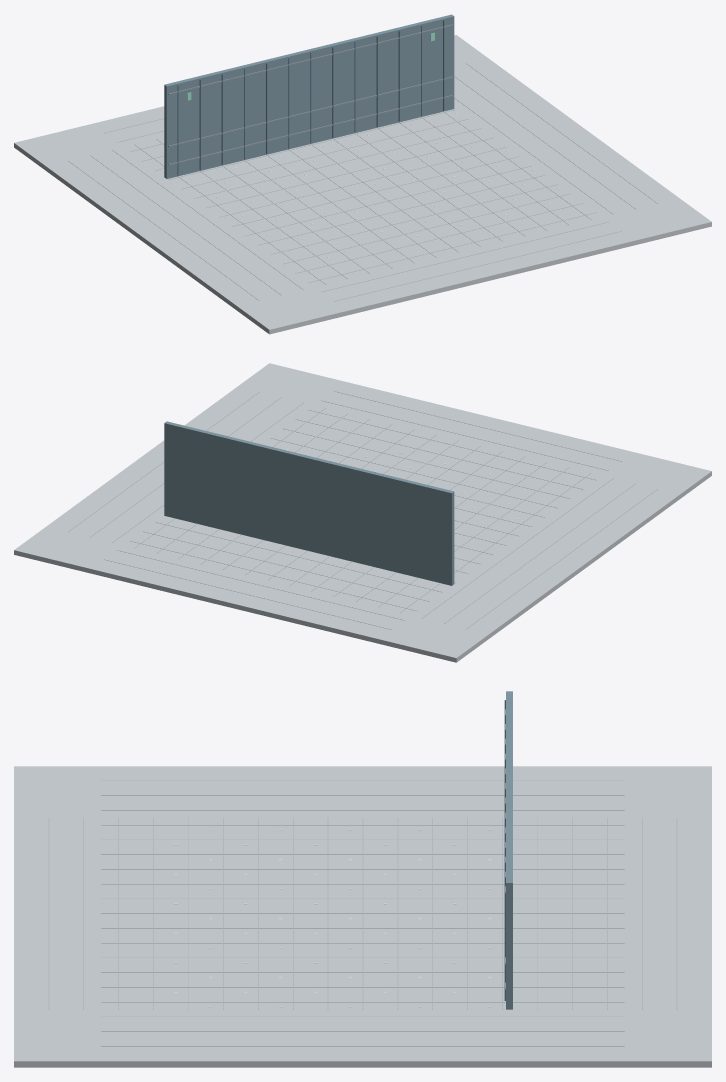
File: sala_laboratorio.glb
3 views of the same model, one above another, from view 1: azimuth 30°, elevation 25°; view 2: azimuth 150°, elevation 25°; view 3: azimuth 270°, elevation 25° (orthographic). The views are drawn at different scales.
Parts seen in each view (by area): view 1: sala_laboratorio; view 2: sala_laboratorio; view 3: sala_laboratorio.
Boxes of the visible parts, <box> form: sala_laboratorio: <box>14,14,711,334</box>; sala_laboratorio: <box>14,363,711,662</box>; sala_laboratorio: <box>14,691,711,1067</box>.
Size of the model in its own units: 40 by 8.4 by 40.
